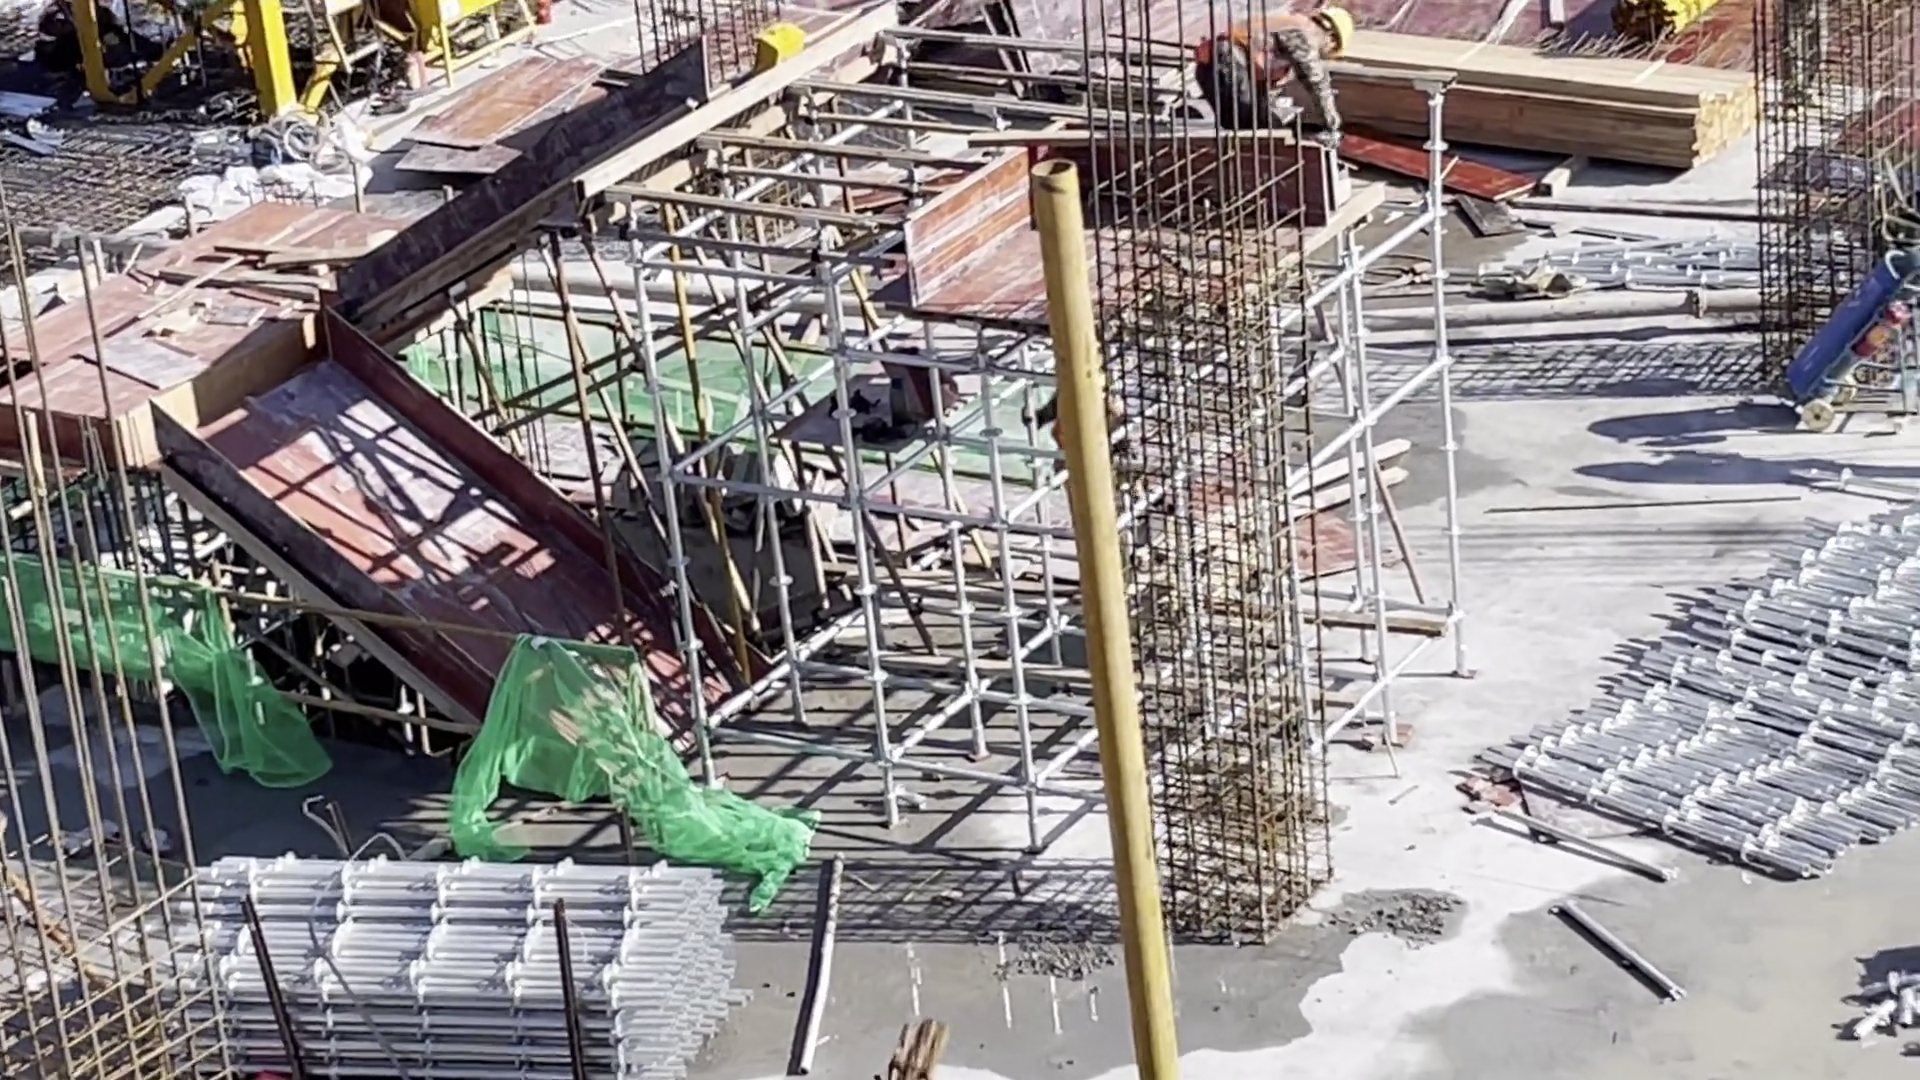ebox: (411, 1, 544, 76)
helmet: (1322, 14, 1355, 65)
person: (1197, 9, 1354, 134), (1773, 2, 1828, 119)
scaffold: (1472, 523, 1920, 882), (155, 835, 761, 1080)
vest: (1202, 14, 1304, 93)
wood: (1317, 24, 1758, 165)
